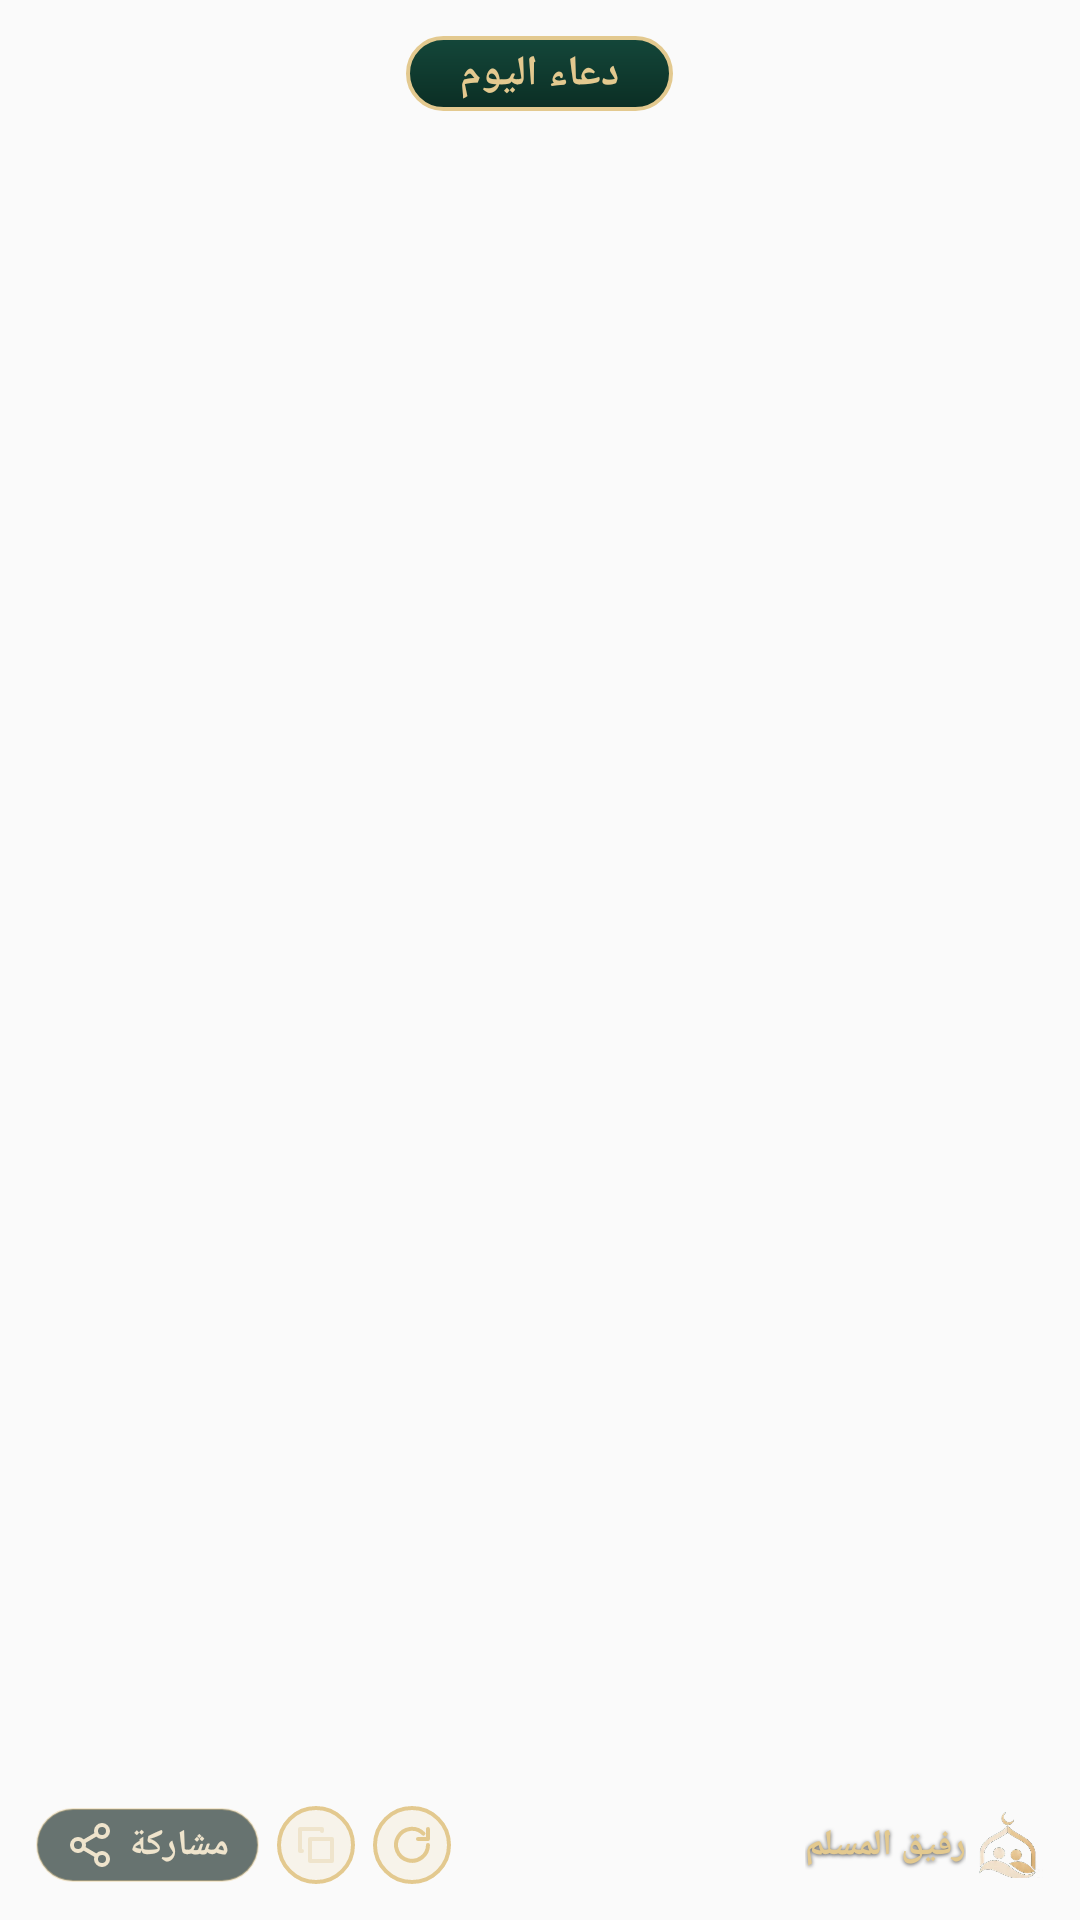

Point at icon controls on the screen. Image size 1080×1920, points as (x=x, y=y).
دعاء آخر: (x=412, y=1845)
نسخ: (x=316, y=1845)
